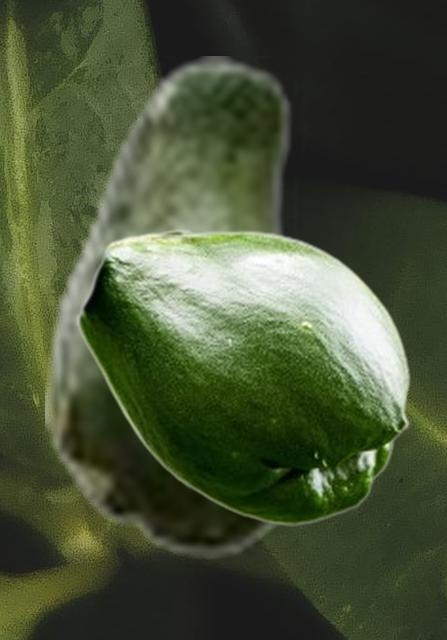sayote: (45, 56, 306, 559), (77, 229, 410, 525)
